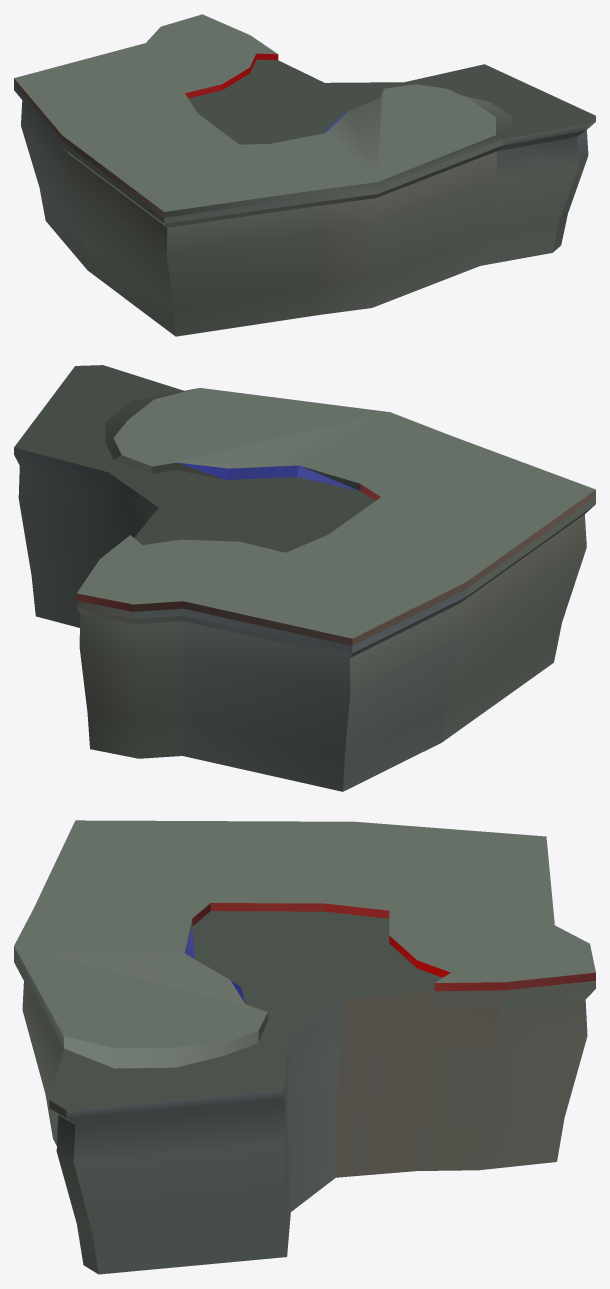
The model's file is landscape-1.fbx.
The picture shows the model from 3 angles, top to bottom: view 1: azimuth 30°, elevation 25°; view 2: azimuth 150°, elevation 25°; view 3: azimuth 270°, elevation 25°; orthographic projection. The views are drawn at different scales.
Parts seen in each view (by area): view 1: bottom ledge, top ledge; view 2: bottom ledge, top ledge; view 3: bottom ledge, top ledge.
Boxes of the visible parts, x1,y1,x2,y2 form: bottom ledge: (14, 59, 595, 336); top ledge: (14, 14, 513, 217); bottom ledge: (14, 365, 595, 791); top ledge: (76, 388, 595, 645); bottom ledge: (14, 911, 595, 1274); top ledge: (14, 820, 595, 1068).
Bounding box in the file's own units: 7439 × 2300 × 6486.
